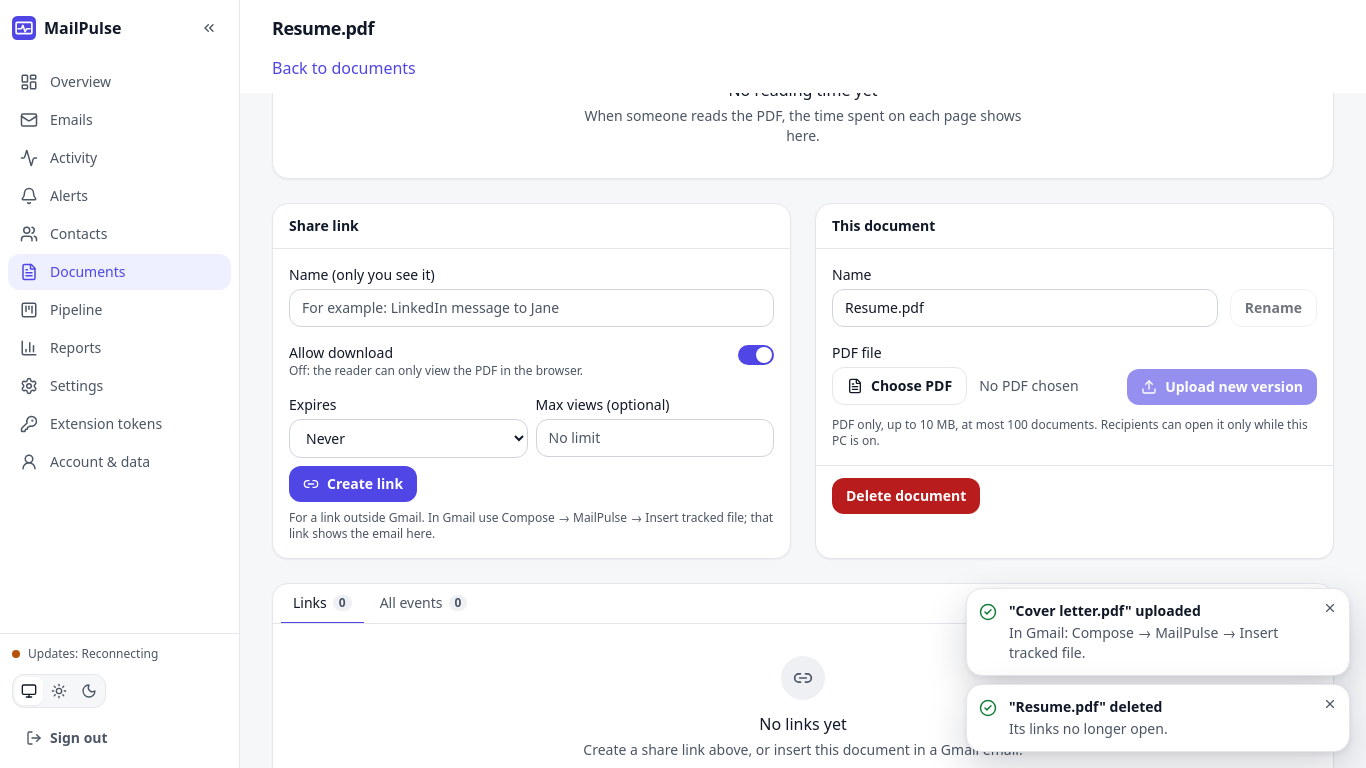
it: Document reading insights and link limits › refuses a view limit over 1000
(page scrolled)
Type "1001" into the number field labelled "Max views (optional)".
click(655, 438); type("1001")  # box [536,419,774,457]
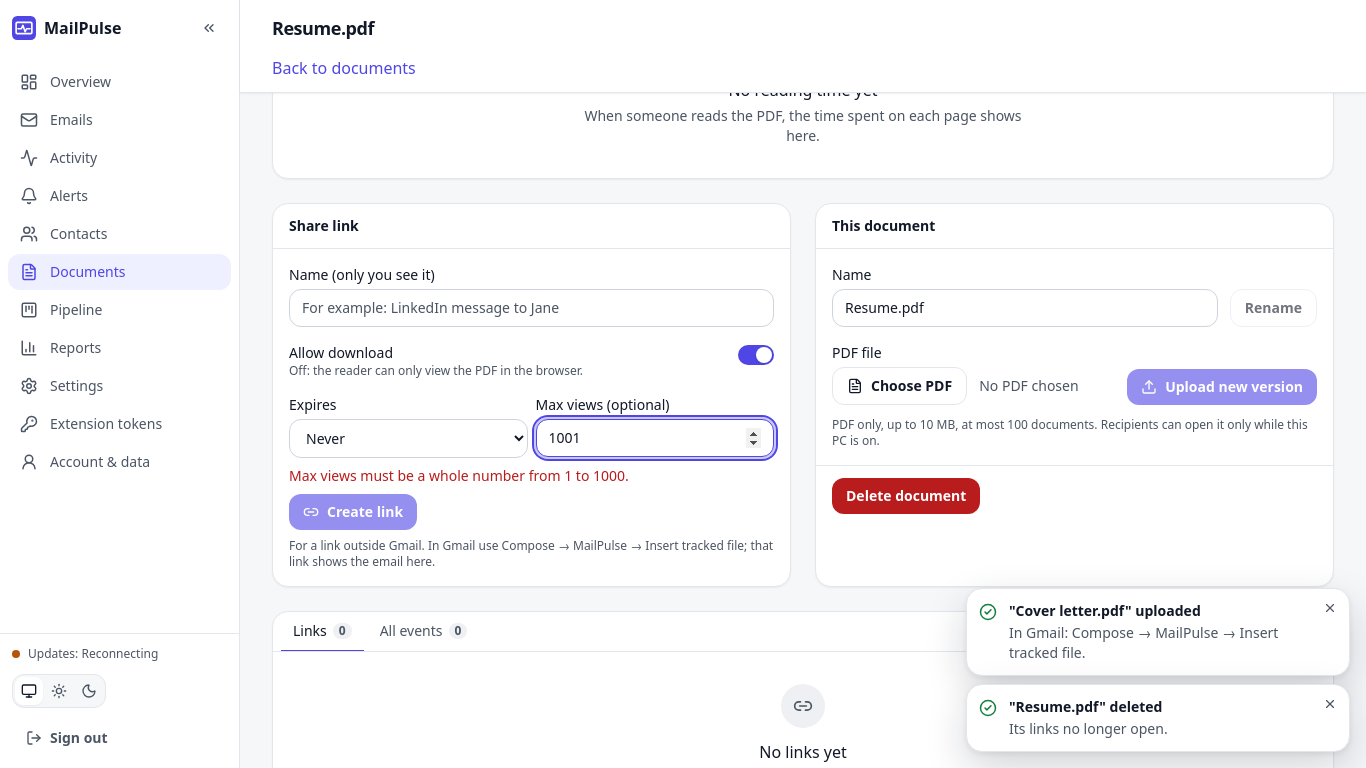
Check: the message "Max views must be a whole number from 1 to 1000." is shown, box [289,466,629,485]
Check: the button "Create link" is disabled, box [289,494,417,530]
